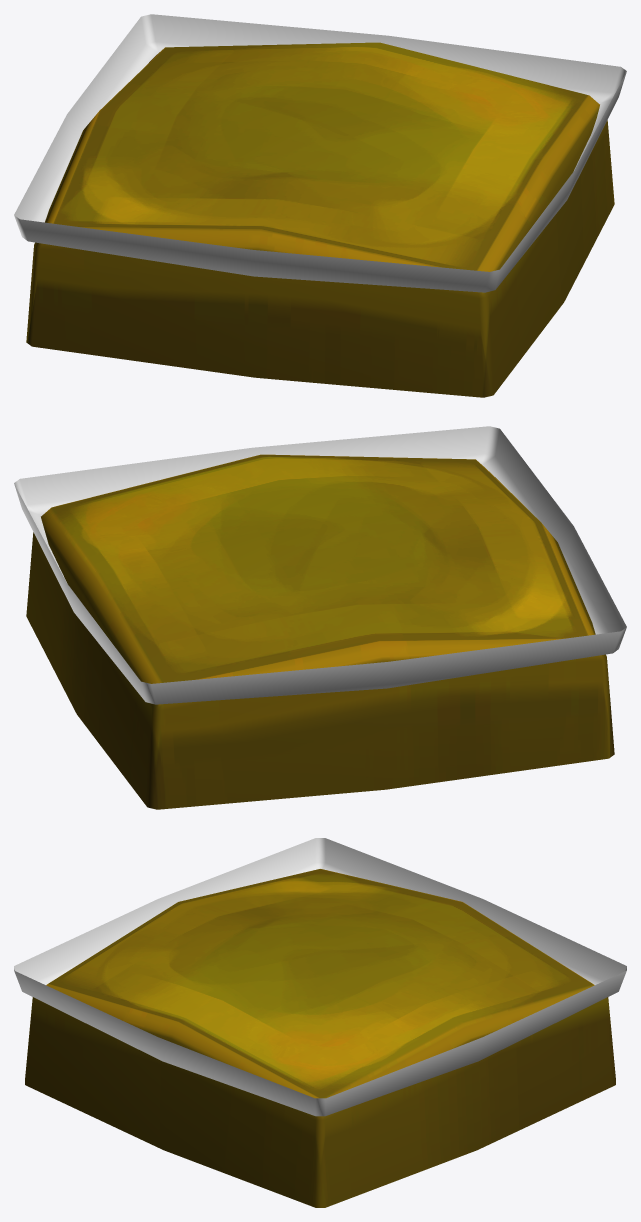
File: simonbutton-right.fbx
3 views of the same model, one above another, from view 1: azimuth 30°, elevation 25°; view 2: azimuth 150°, elevation 25°; view 3: azimuth 270°, elevation 25° (orthographic). The views are drawn at different scales.
Parts seen in each view (by area): view 1: button, button_right_highlight; view 2: button, button_right_highlight; view 3: button, button_right_highlight.
Part boxes in pixels (<box>): button: <box>26,42,614,397</box>; button_right_highlight: <box>14,14,626,292</box>; button: <box>26,454,614,809</box>; button_right_highlight: <box>14,426,626,704</box>; button: <box>25,869,615,1207</box>; button_right_highlight: <box>14,838,626,1116</box>.
Size of the model in its own units: 0.0767 by 0.0181 by 0.0763.
Materials: 1 (1 with a texture image).
